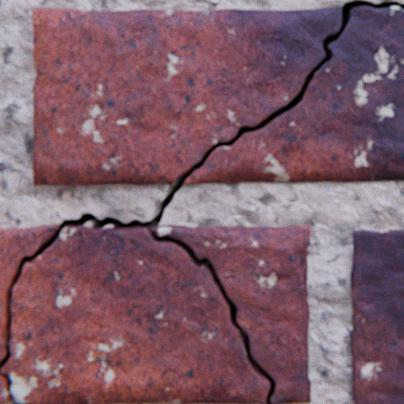brick: (350, 229, 403, 403)
broken_brick: (33, 7, 341, 184), (3, 225, 269, 403), (185, 7, 403, 183), (153, 224, 310, 403), (0, 224, 59, 360), (0, 369, 11, 402)
crack: (0, 0, 403, 403)
